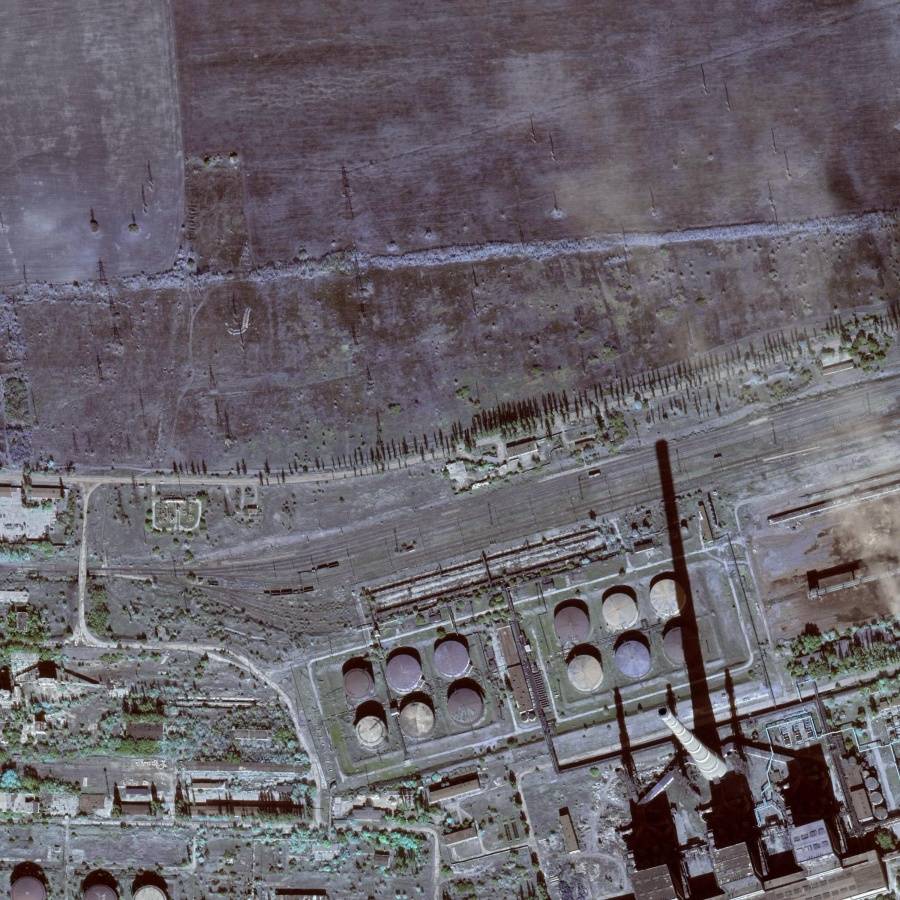PowerPlant: (304, 610, 512, 786)
